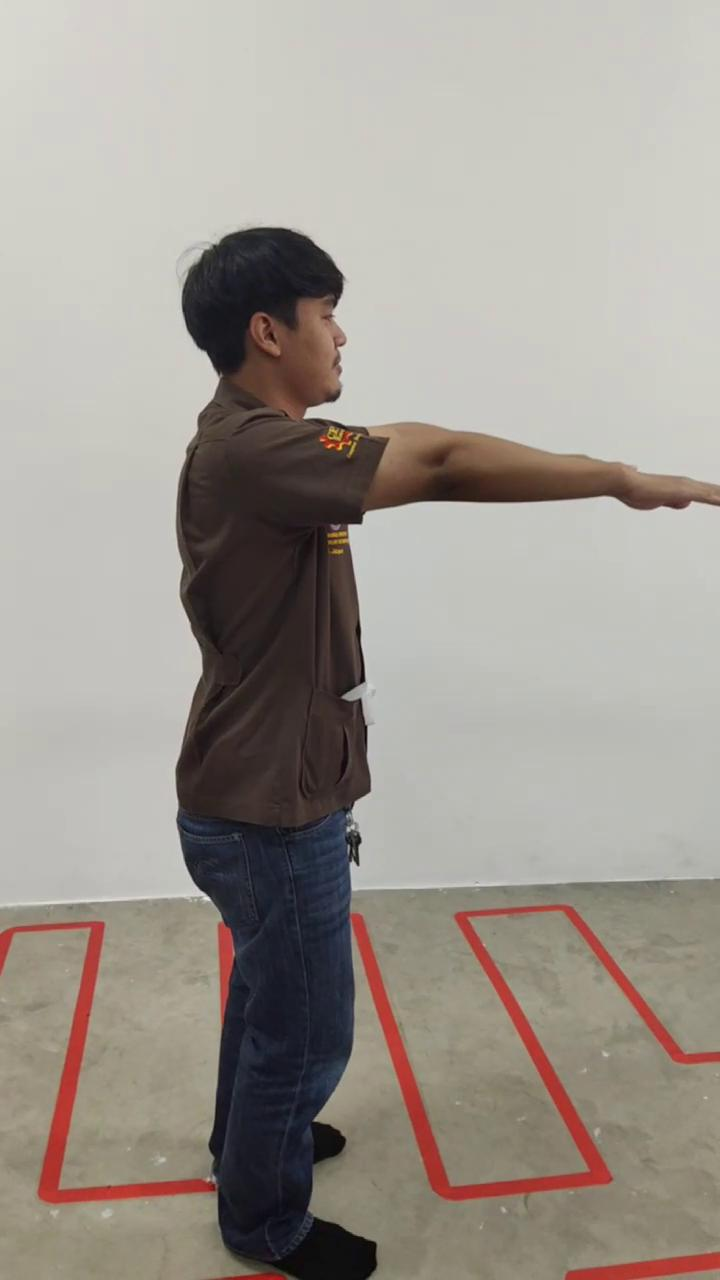squat up: (178, 228, 718, 1280)
